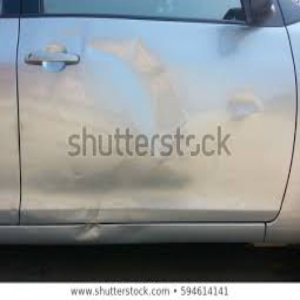door: (34, 34, 273, 126)
